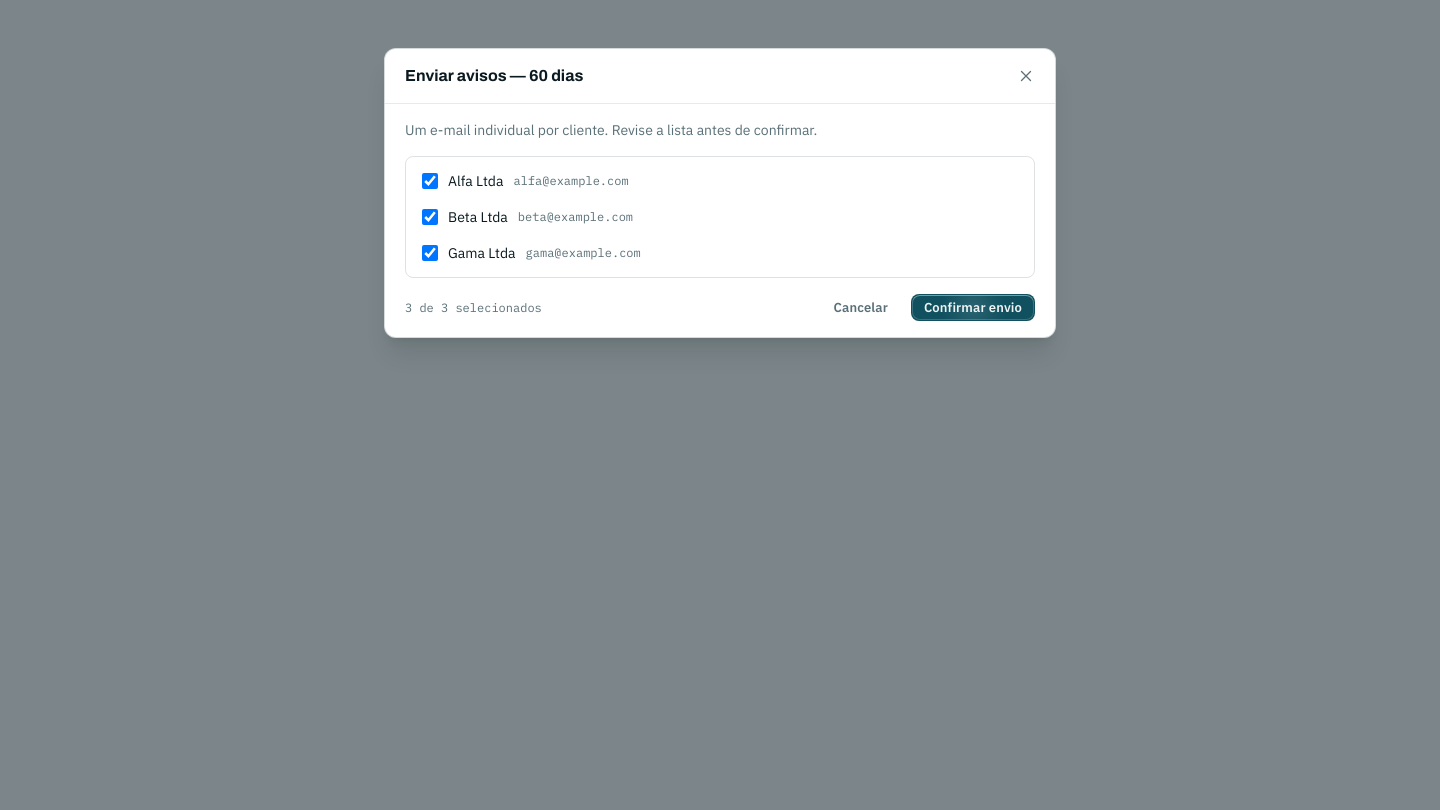
Test: ModalEnvioLote › confirma só os selecionados
The width and height of the screenshot is (1440, 810).
Click the checkbox labelled "Beta Ltda beta@example.com" at (430,217), box [422,209,438,225]
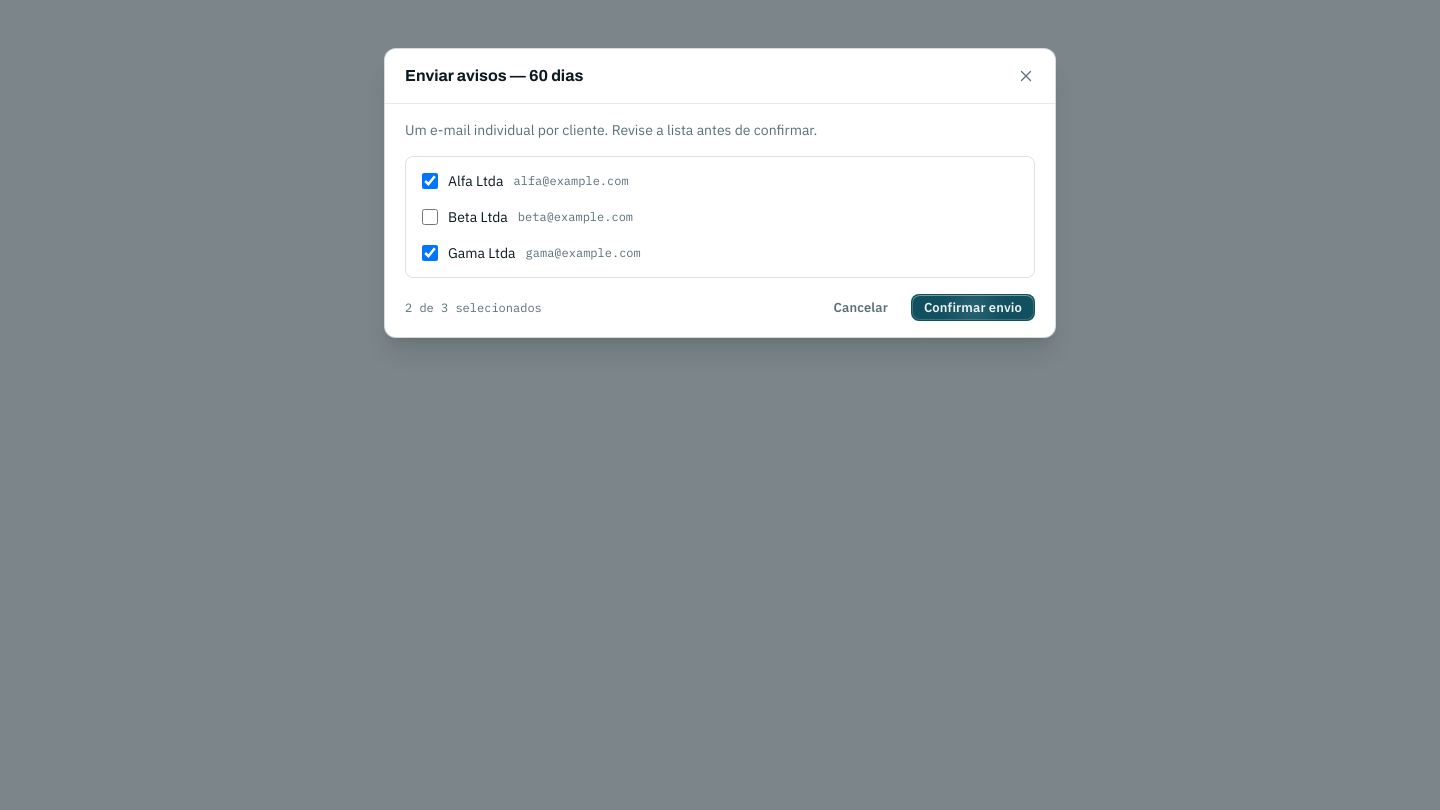
Click the button "Confirmar envio" at (973,308), box [911,294,1035,321]
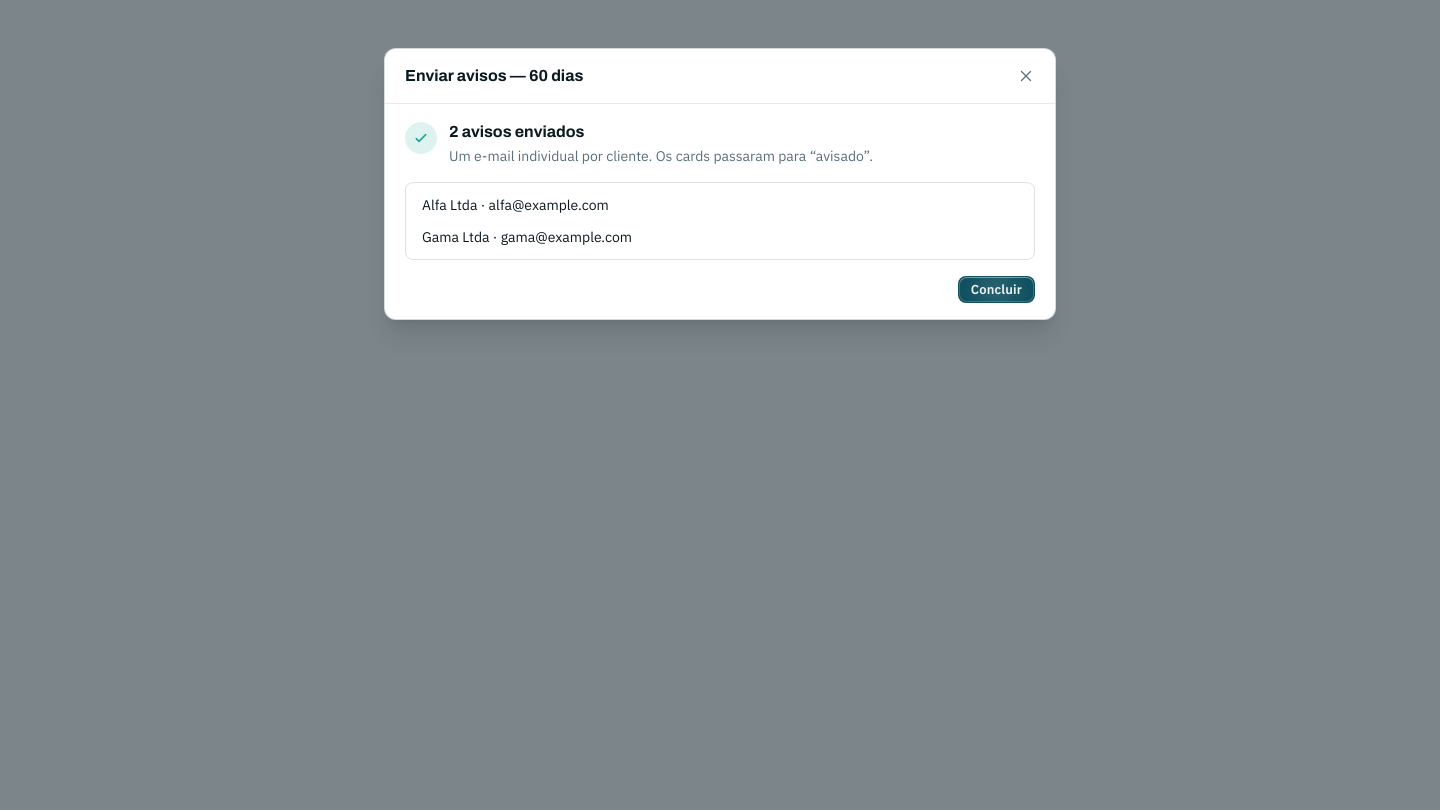
expect the text "2 avisos enviados" is shown: met, box [449,123,584,140]
